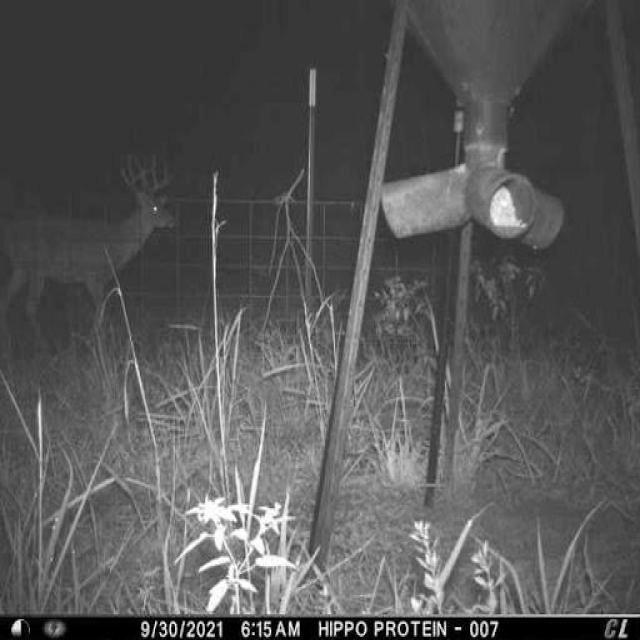Deer: (5, 138, 185, 354)
